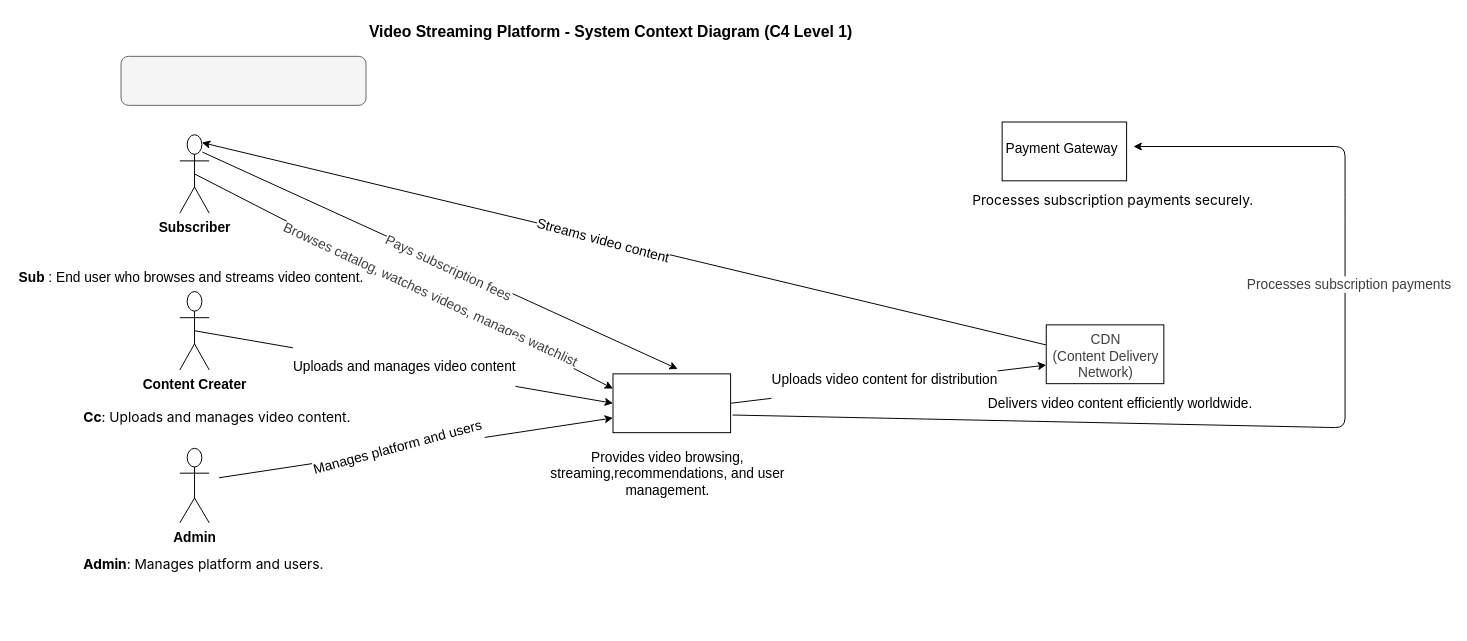
The diagram is 1467 pixels wide and 641 high, and some of its shapes have lost their labels. The centre of each missing label's shape, as x and y in pixels:
Add: 1 System, 3+ Users, 2+ External Systems Label all relationships: (x=243, y=80)
Video Streaming Platform: (x=671, y=403)
